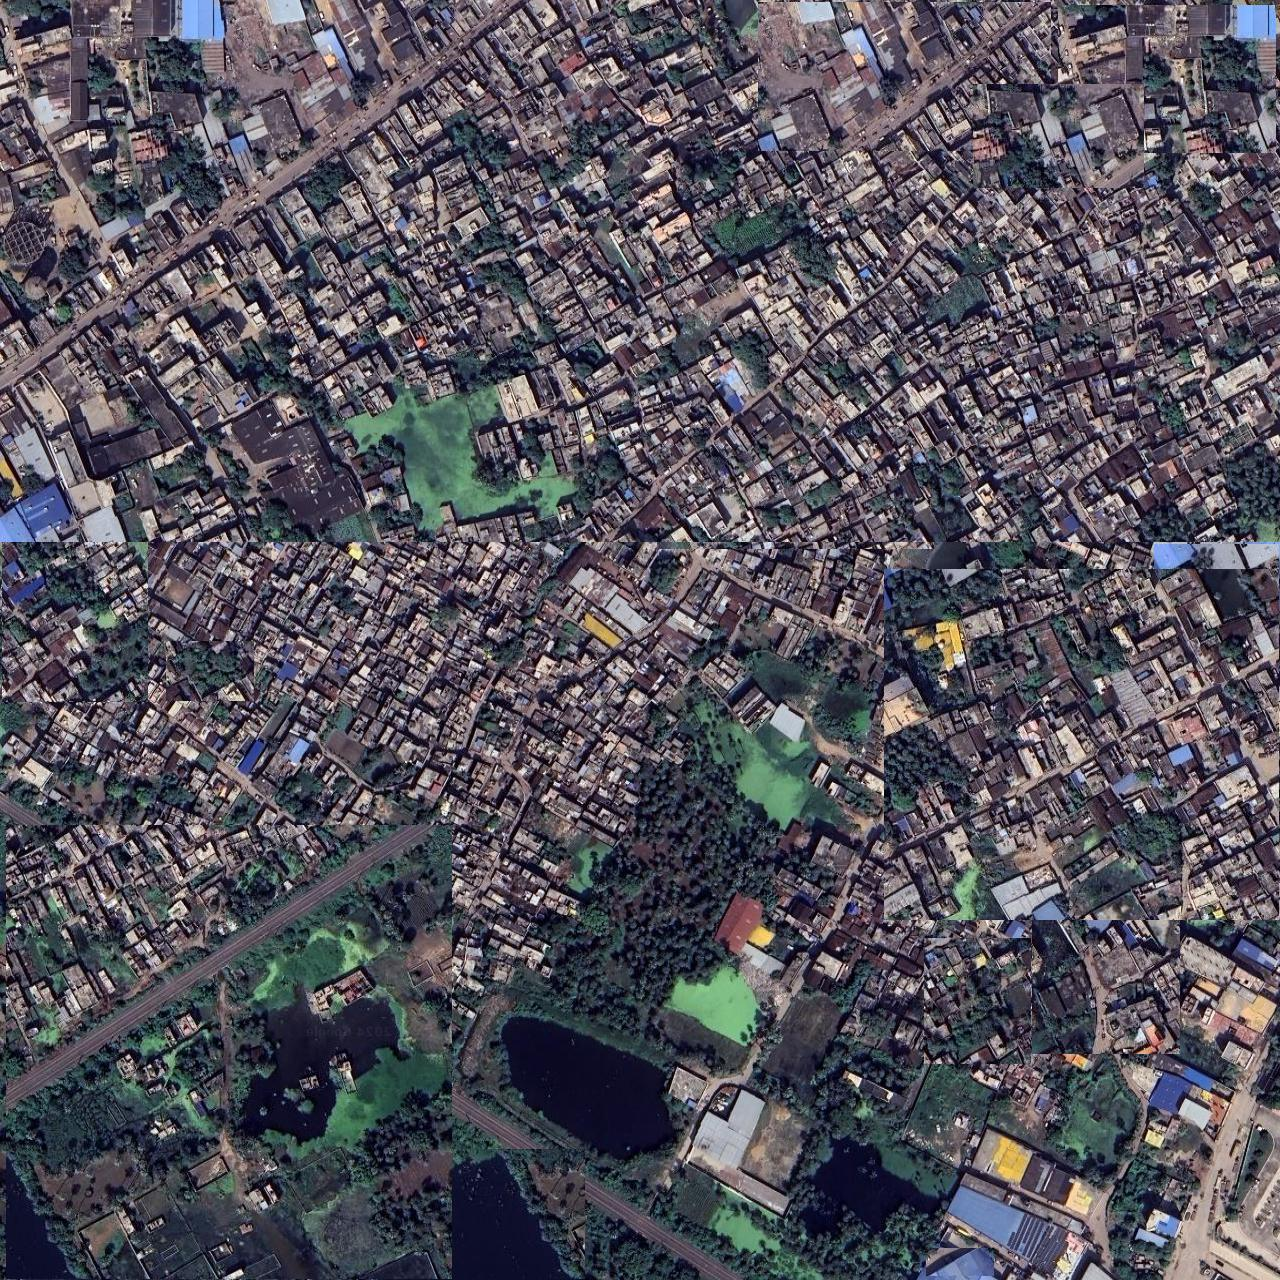greenery: (1, 756, 597, 1175), (6, 825, 452, 1280), (498, 628, 892, 1087), (246, 987, 714, 1280), (594, 990, 999, 1280), (658, 324, 934, 549), (1014, 1054, 1207, 1278), (2, 501, 148, 702), (1155, 545, 1280, 715), (427, 193, 573, 298), (239, 0, 380, 105), (987, 812, 1114, 922), (924, 939, 1030, 1064), (939, 327, 1067, 423), (1050, 125, 1179, 212), (263, 231, 359, 328), (1187, 722, 1280, 817), (0, 438, 57, 578), (656, 111, 754, 191), (747, 224, 830, 309), (305, 448, 370, 547), (168, 641, 254, 701), (966, 499, 1034, 576), (764, 115, 837, 184), (425, 67, 485, 147), (535, 145, 605, 207), (222, 483, 279, 549), (592, 4, 655, 59), (925, 154, 981, 210), (94, 142, 138, 195), (490, 4, 546, 41), (53, 181, 101, 224), (198, 159, 229, 189), (48, 1, 82, 20)
house: (0, 0, 1280, 542), (15, 268, 838, 1061), (885, 570, 1279, 920), (797, 564, 1076, 1039), (758, 2, 1051, 151), (1078, 173, 1273, 373), (1032, 828, 1180, 1054), (1058, 6, 1276, 154), (1165, 914, 1278, 1075), (974, 84, 1144, 188), (692, 1077, 792, 1218), (946, 1186, 1087, 1273), (1125, 1036, 1238, 1141), (969, 1141, 1118, 1218), (717, 899, 794, 993), (926, 1248, 994, 1276), (1156, 1198, 1194, 1238)
water: (62, 990, 241, 1149), (502, 1022, 696, 1167), (368, 1149, 585, 1279), (799, 1139, 919, 1244)
